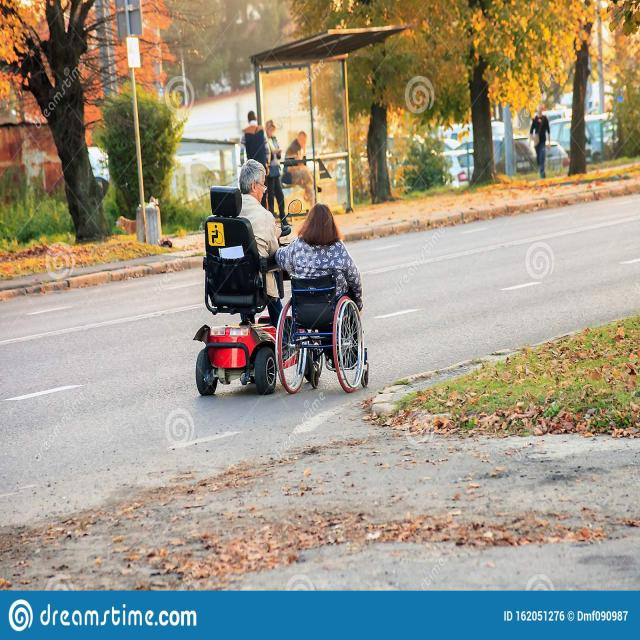wheelchairs: (276, 275, 374, 398)
